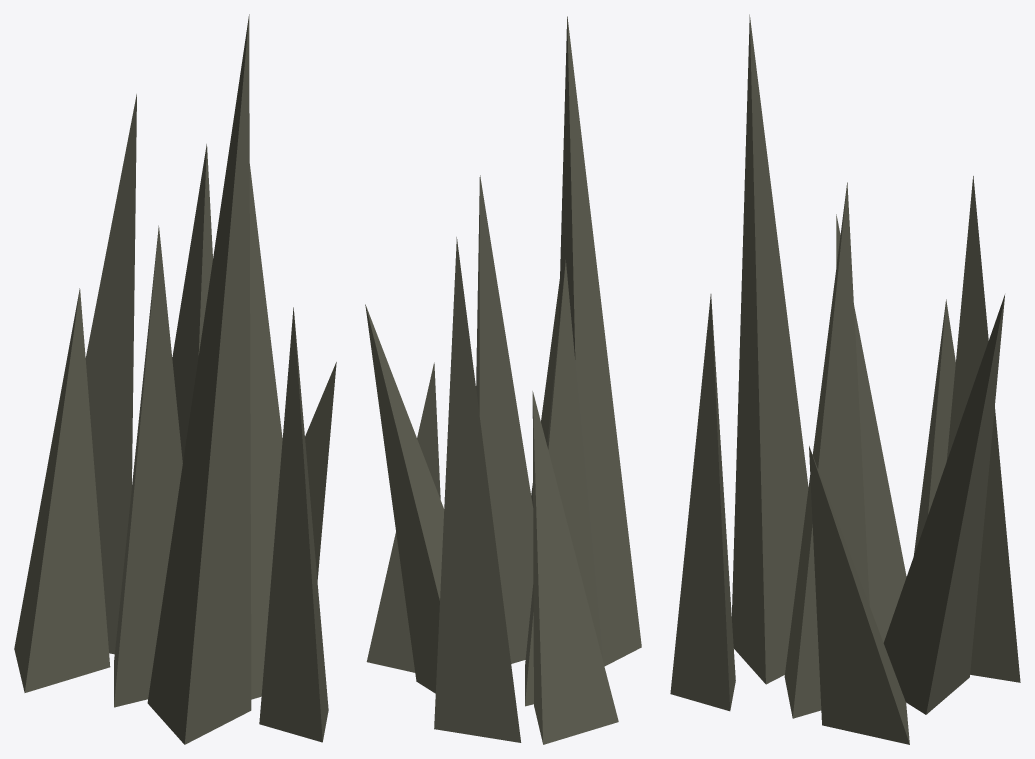
File: grass1.fbx
The picture shows the model from 3 angles, left to right: view 1: azimuth 30°, elevation 25°; view 2: azimuth 150°, elevation 25°; view 3: azimuth 270°, elevation 25°; orthographic projection. The views are drawn at different scales.
Parts seen in each view (by area): view 1: grass; view 2: grass; view 3: grass.
Part boxes in pixels (x1,y1,x2,y2): grass: (14, 14, 336, 744); grass: (365, 16, 641, 744); grass: (670, 14, 1020, 744).
Size of the model in its own units: 57.57 by 137 by 65.29.
